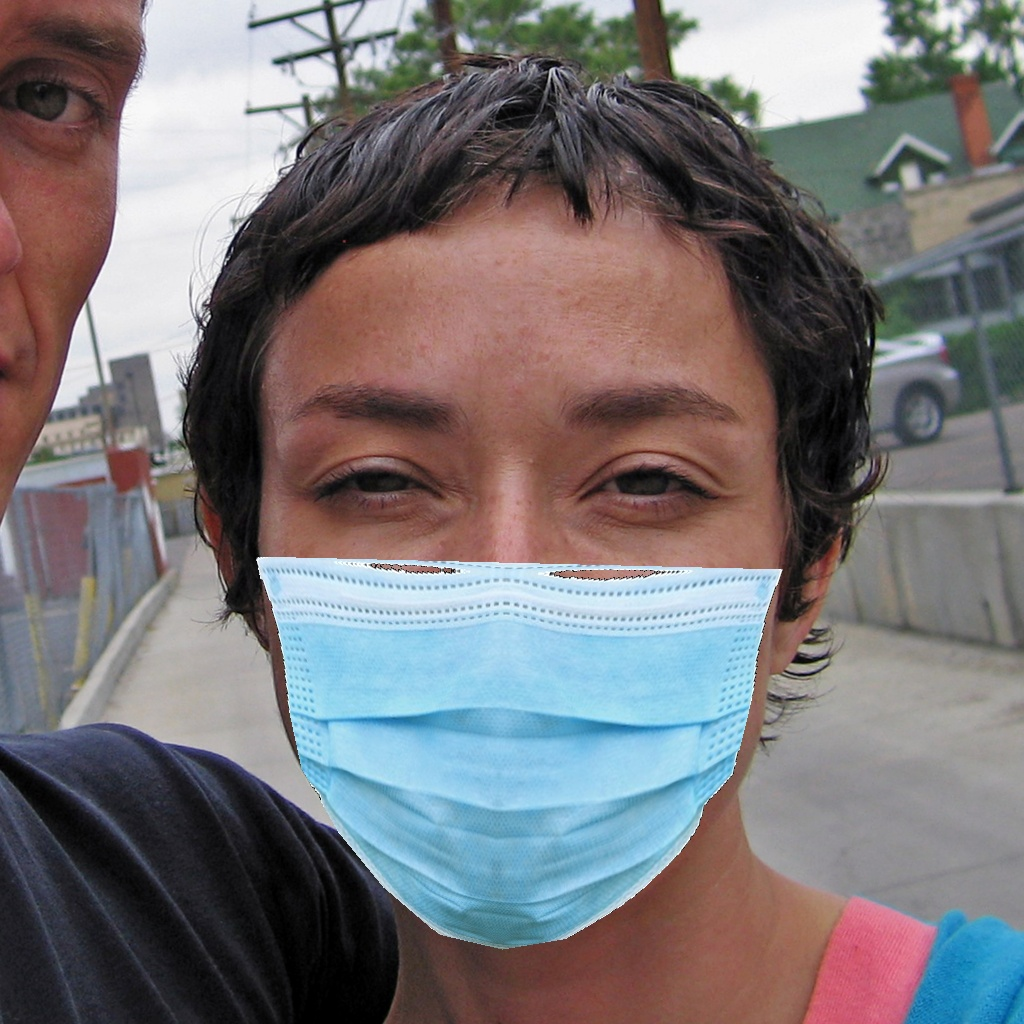Mask: (255, 343, 782, 952)
